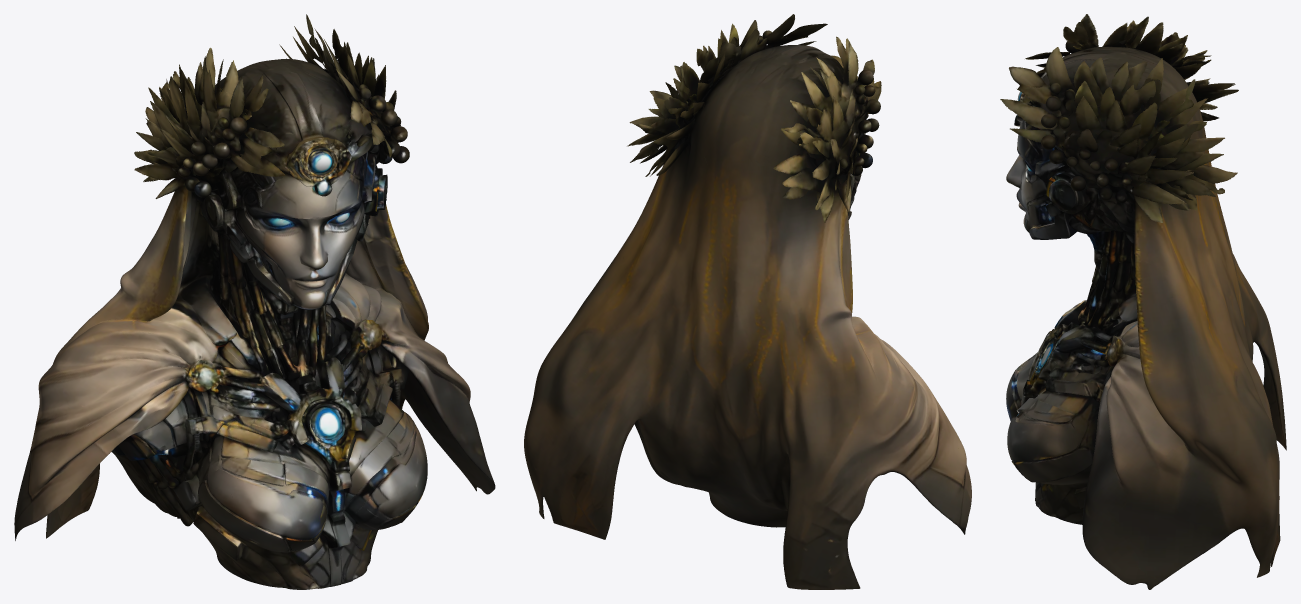
File: cyber_optimized_v2.glb
3 views of the same model, side by side, from view 1: azimuth 30°, elevation 25°; view 2: azimuth 150°, elevation 25°; view 3: azimuth 270°, elevation 25° (orthographic). The views are drawn at different scales.
Parts seen in each view (by area): view 1: model; view 2: model; view 3: model.
Boxes of the visible parts, box(x1,y1,x2,y2) form: model: box(14, 14, 495, 589); model: box(524, 14, 971, 589); model: box(1000, 14, 1286, 589).
Size of the model in its own units: 1.73 by 1.88 by 1.06.
Materials: 1 (1 with a texture image).
